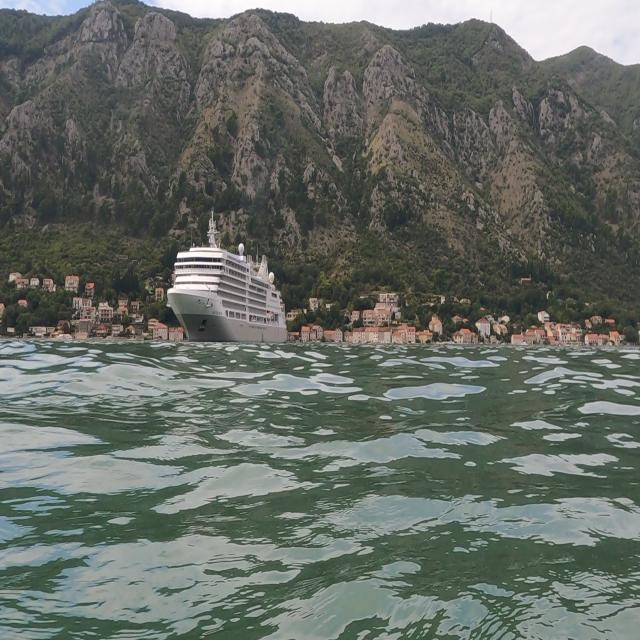boat: (165, 207, 290, 347)
